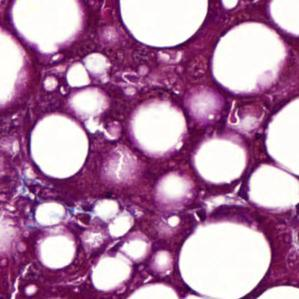steatosis: (179, 222, 274, 299), (30, 110, 90, 178)
